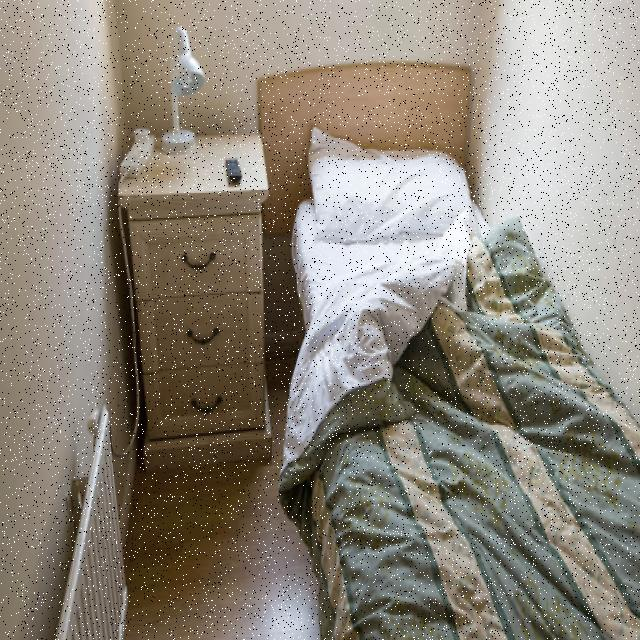bed: (279, 118, 640, 640)
